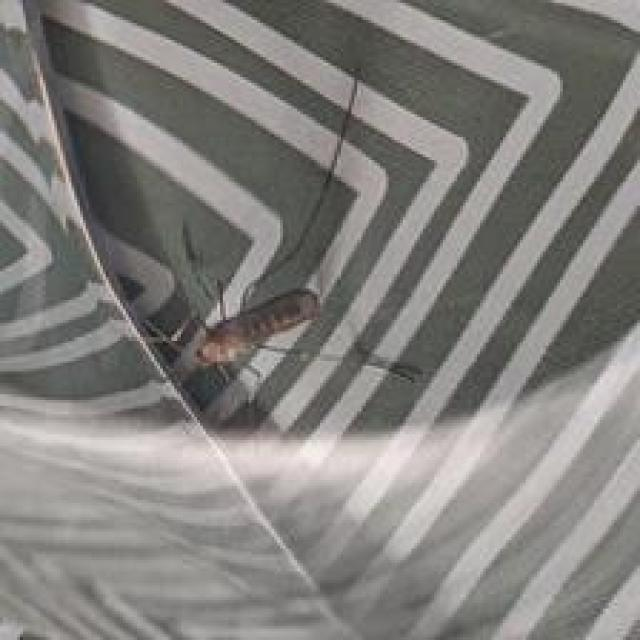Culex: (177, 67, 423, 390)
